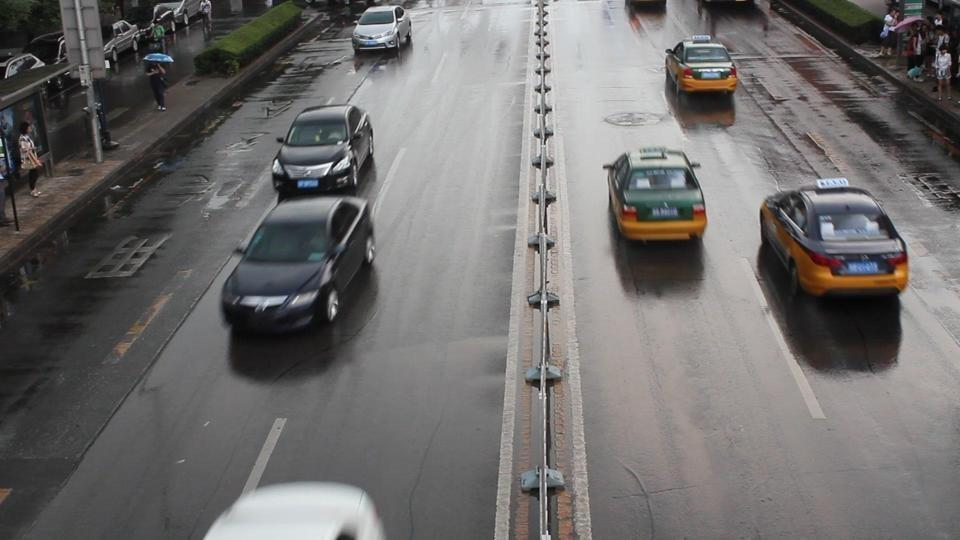car: (219, 196, 376, 335), (757, 180, 910, 302), (202, 480, 387, 539), (604, 146, 708, 243), (271, 103, 376, 199), (663, 37, 739, 97), (351, 5, 412, 55), (25, 30, 68, 66), (0, 53, 44, 81)
